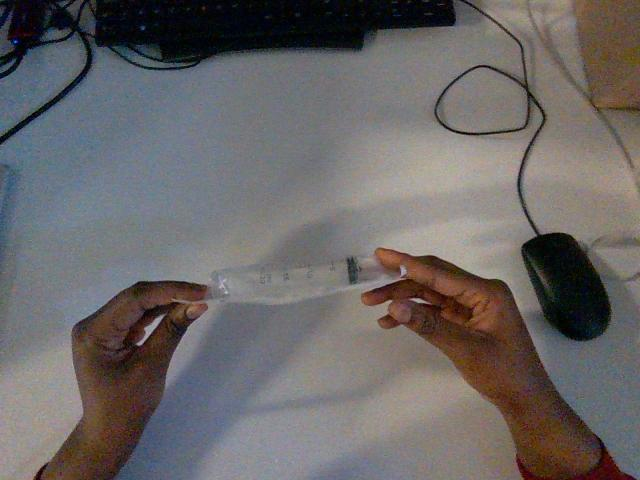syringe: (208, 255, 400, 304)
